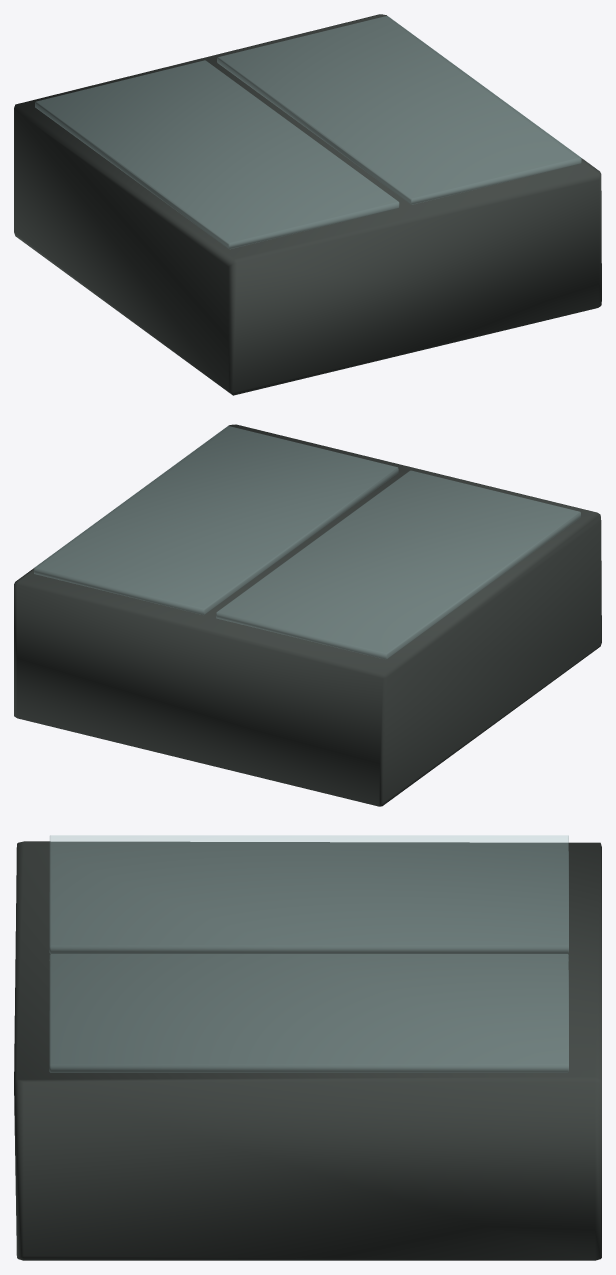
File: display_refrigerated_doors.glb
3 views of the same model, one above another, from view 1: azimuth 30°, elevation 25°; view 2: azimuth 150°, elevation 25°; view 3: azimuth 270°, elevation 25° (orthographic). The views are drawn at different scales.
Parts seen in each view (by area): view 1: Cabinet, Door.001, Door; view 2: Cabinet, Door, Door.001; view 3: Cabinet, Door.001, Door.
Boxes of the visible parts, <box> form: Cabinet: <box>14,14,601,395</box>; Door.001: <box>217,16,581,204</box>; Door: <box>35,60,398,248</box>; Cabinet: <box>14,424,601,806</box>; Door: <box>216,471,580,659</box>; Door.001: <box>34,426,398,614</box>; Cabinet: <box>14,841,601,1260</box>; Door.001: <box>49,954,568,1072</box>; Door: <box>49,835,568,953</box>.
Size of the model in its own units: 2.05 by 0.7575 by 2.09.
